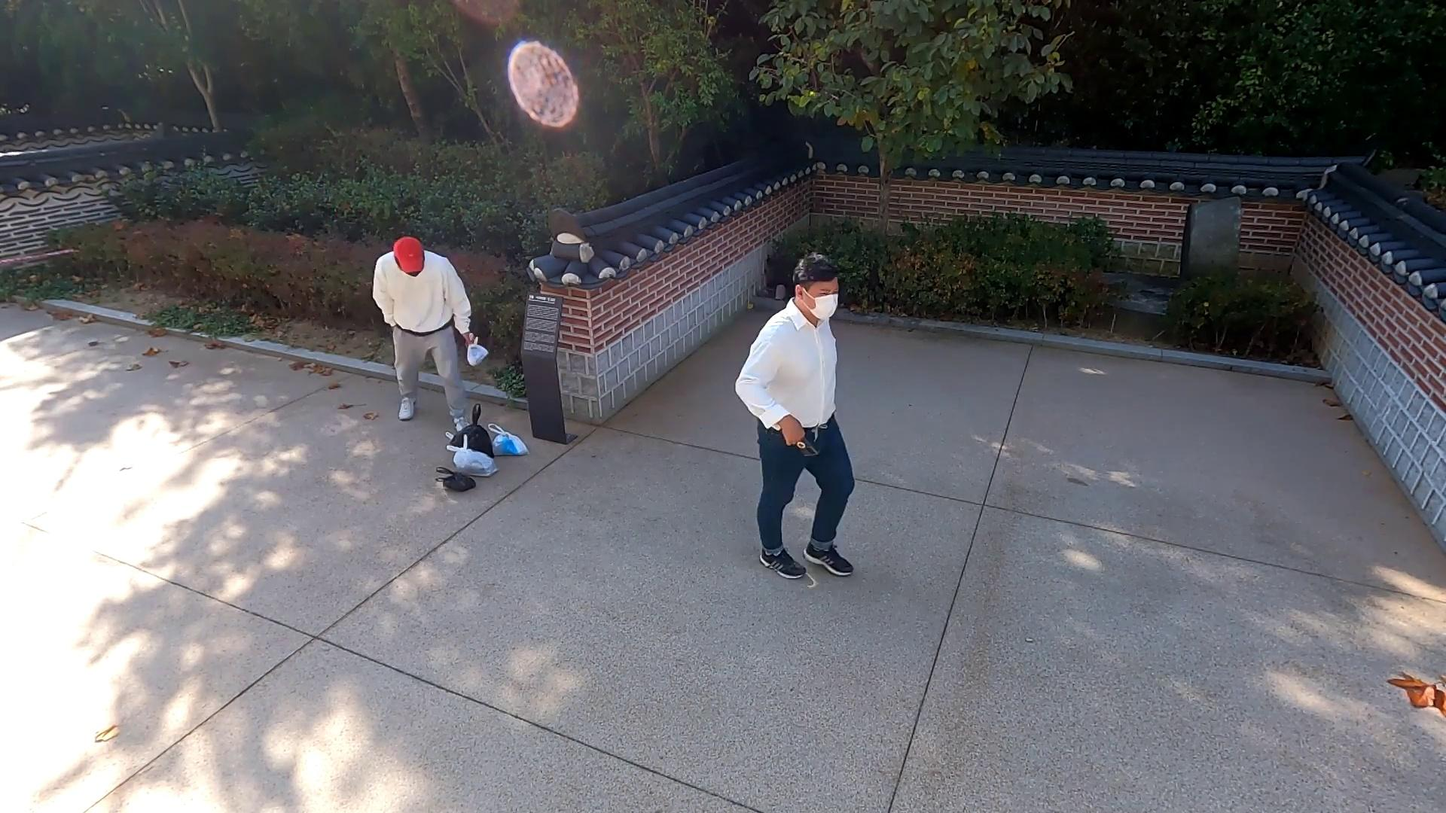person: (727, 247, 867, 585), (370, 232, 478, 433)
trash: (444, 431, 501, 480), (452, 402, 498, 461), (484, 422, 530, 459), (456, 329, 493, 373), (430, 461, 482, 490)
